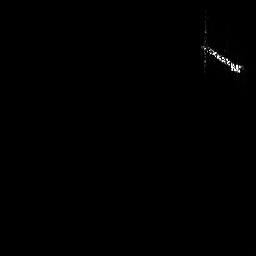ship: (201, 13, 244, 77)
